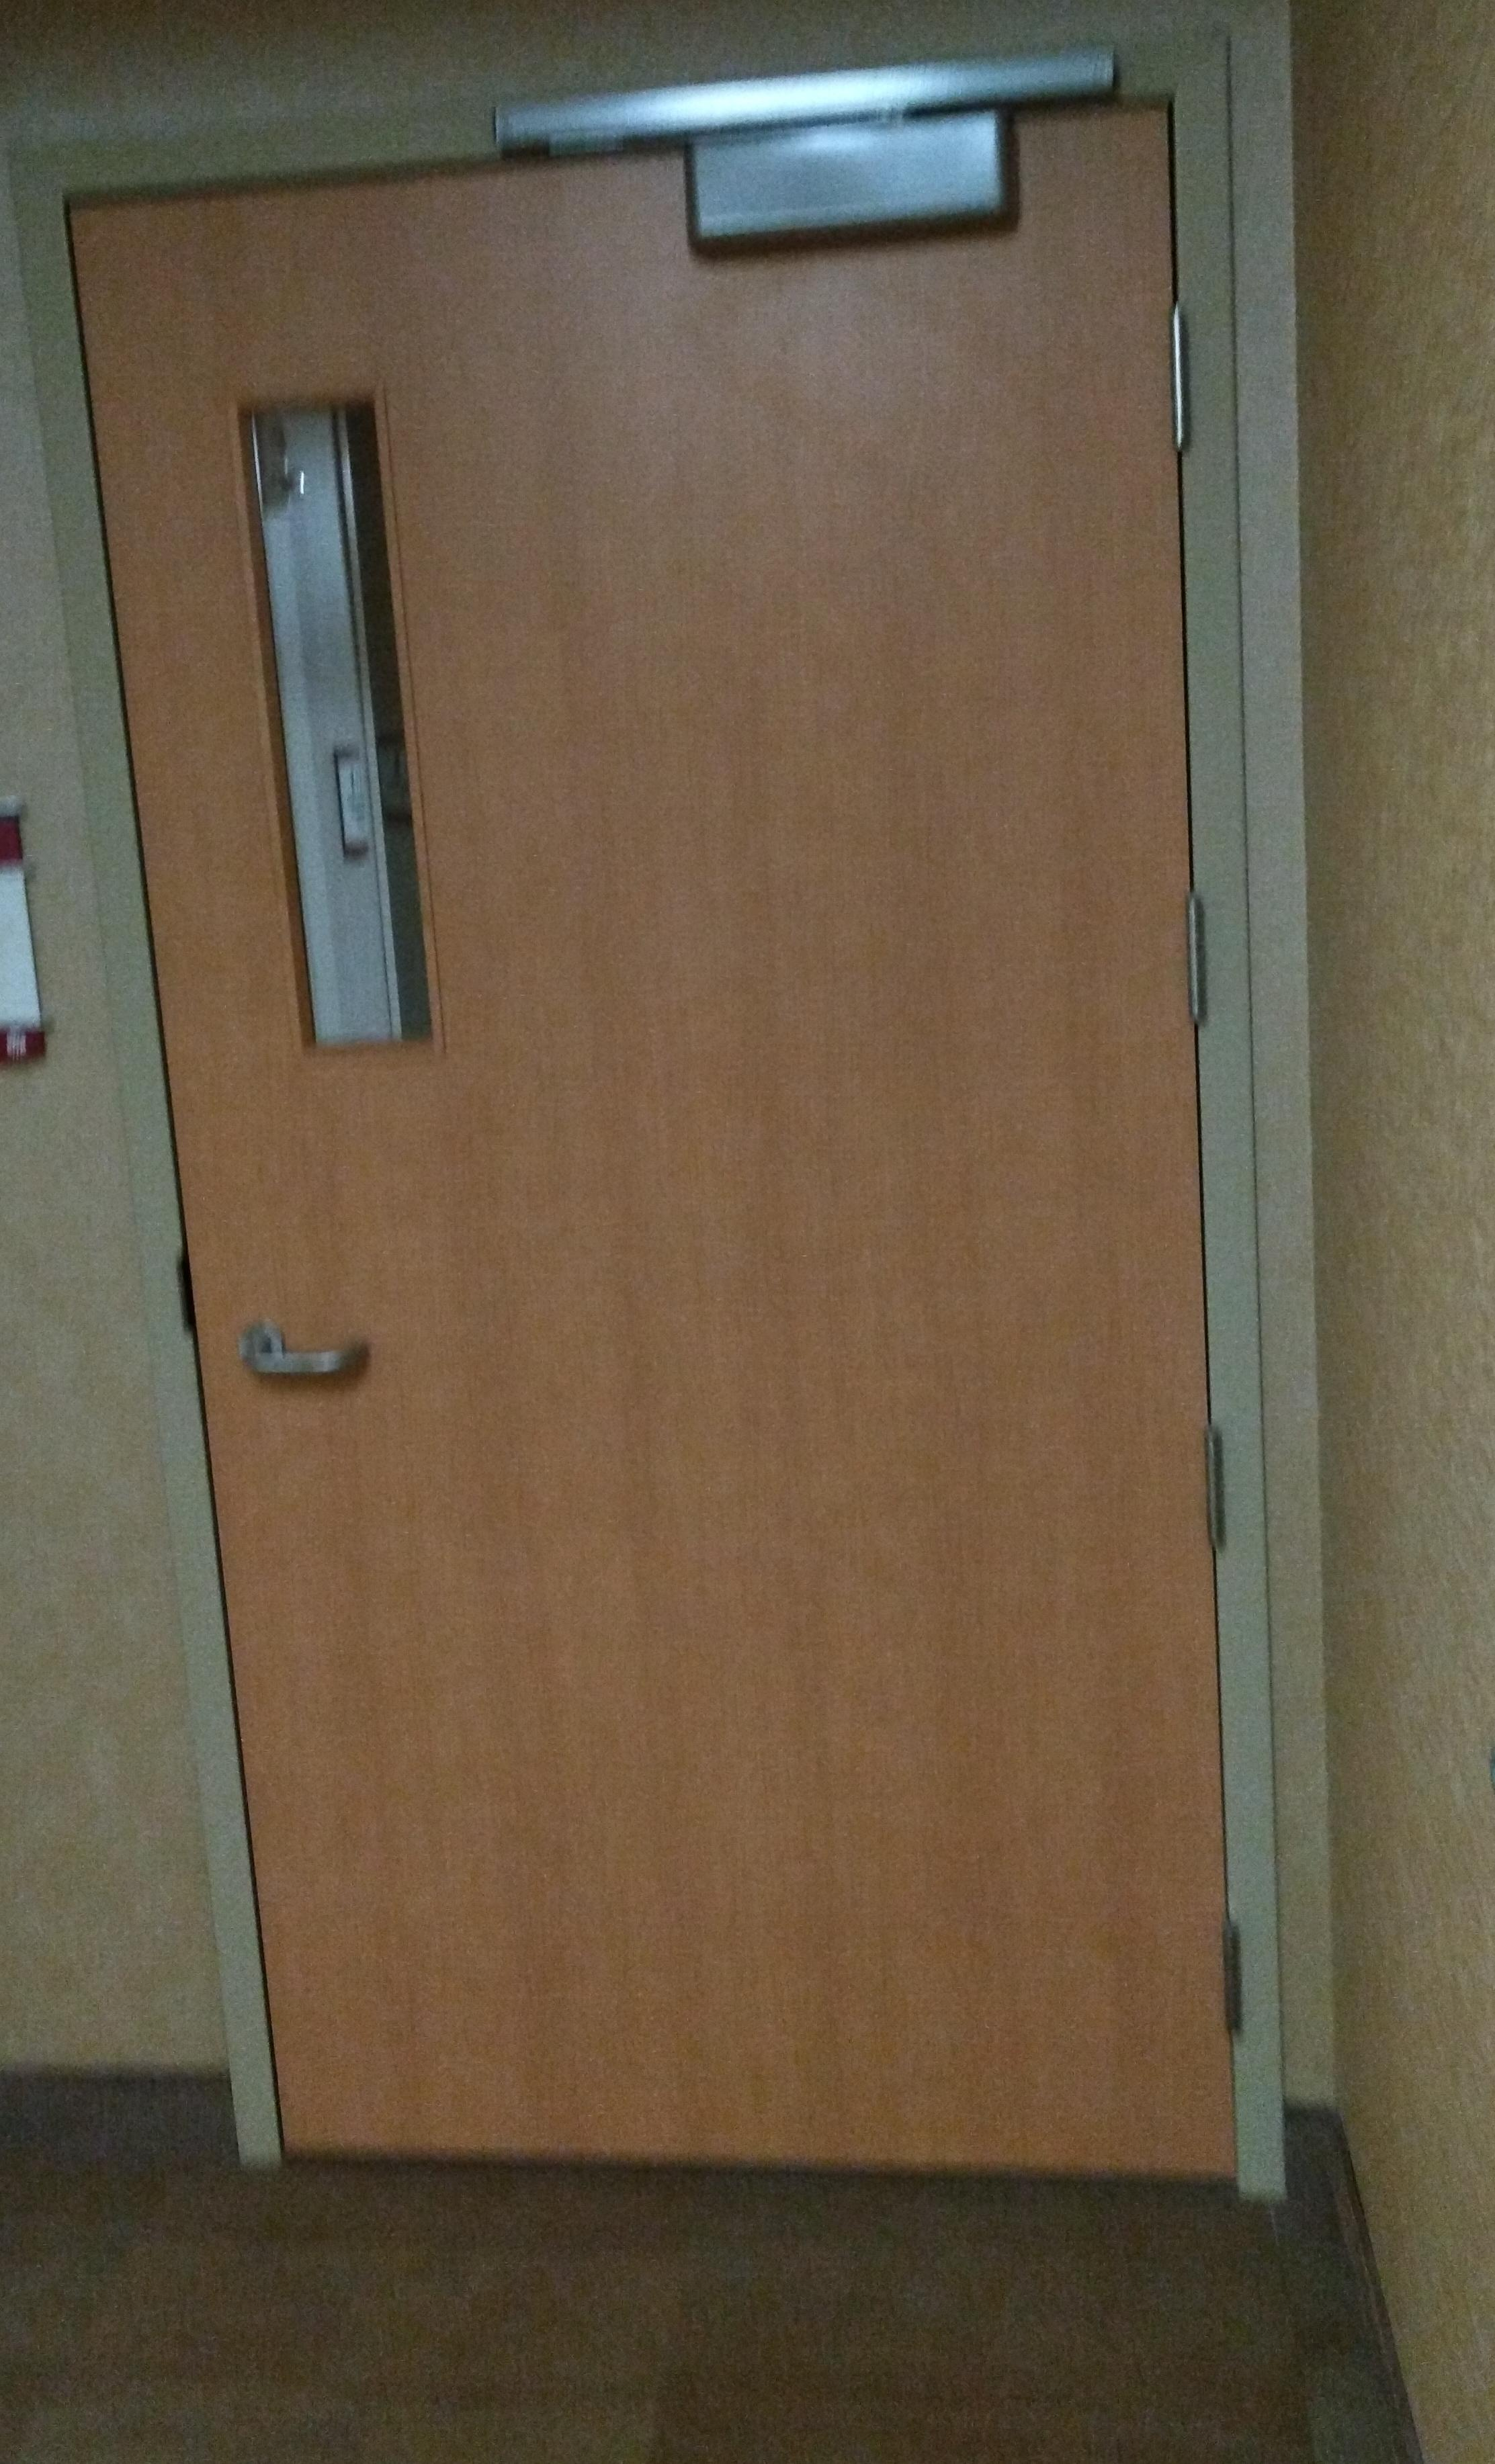door: (32, 97, 1358, 2189)
